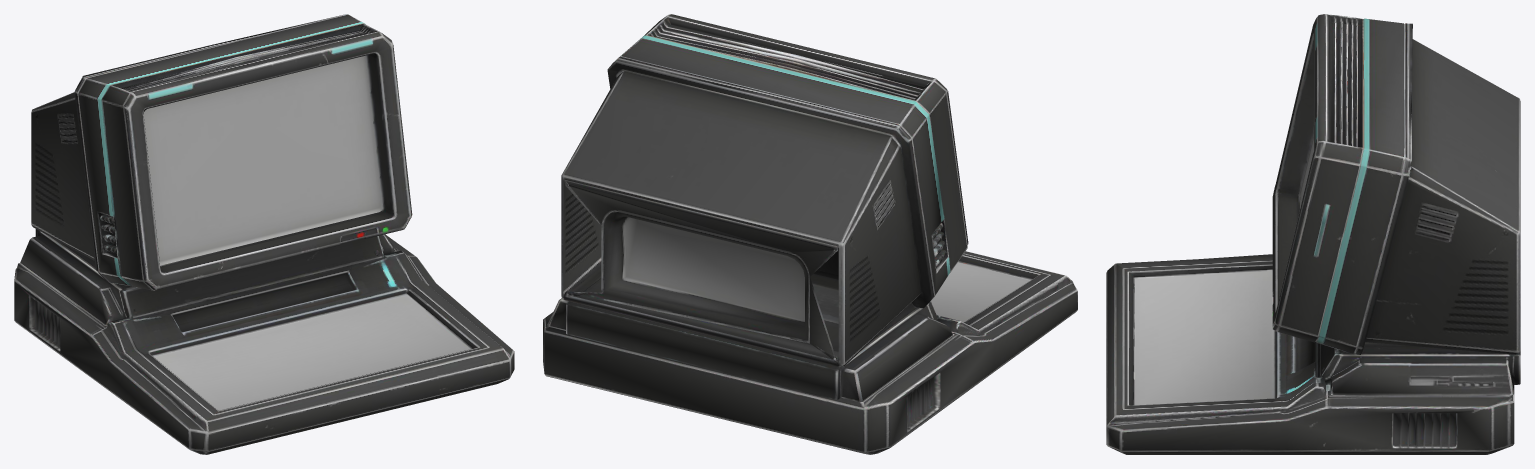
File: selected.glb
3 views of the same model, side by side, from view 1: azimuth 30°, elevation 25°; view 2: azimuth 150°, elevation 25°; view 3: azimuth 270°, elevation 25° (orthographic). The views are drawn at different scales.
Parts seen in each view (by area): view 1: tripo_node_7c854c80-0cac-4e9c-97ca-a7c0a1b4ac57; view 2: tripo_node_7c854c80-0cac-4e9c-97ca-a7c0a1b4ac57; view 3: tripo_node_7c854c80-0cac-4e9c-97ca-a7c0a1b4ac57.
Boxes of the visible parts, x1,y1,x2,y2 form: tripo_node_7c854c80-0cac-4e9c-97ca-a7c0a1b4ac57: [14, 14, 514, 454]; tripo_node_7c854c80-0cac-4e9c-97ca-a7c0a1b4ac57: [543, 14, 1077, 454]; tripo_node_7c854c80-0cac-4e9c-97ca-a7c0a1b4ac57: [1106, 14, 1520, 454].
Bounding box in the file's own units: 0.9512 × 0.8027 × 0.998.
Materials: 1 (1 with a texture image).
